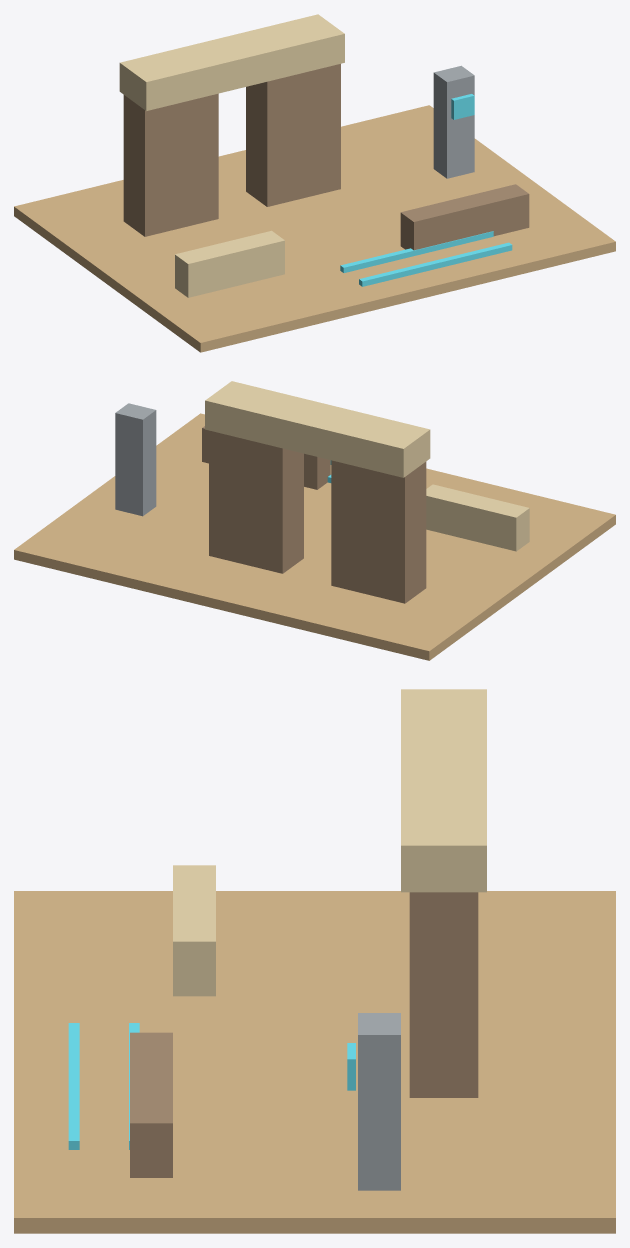
File: cubecraft_outpost_gate_tile_01.glb
3 renders of one model, top to bottom at view 1: azimuth 30°, elevation 25°; view 2: azimuth 150°, elevation 25°; view 3: azimuth 270°, elevation 25°, orthographic. The views are drawn at different scales.
Visible parts, largest first — view 1: base, left_wall, lintel, right_wall, low_cover_a, low_cover_b, terminal, landing_tick_a, landing_tick_b, terminal_screen; view 2: base, left_wall, lintel, right_wall, low_cover_b, terminal, low_cover_a; view 3: base, lintel, right_wall, terminal, low_cover_a, low_cover_b, landing_tick_a.
Part boxes in pixels (<box>): base: <box>14,105,615,352</box>; left_wall: <box>123,93,218,236</box>; lintel: <box>119,14,344,110</box>; right_wall: <box>246,64,340,206</box>; low_cover_a: <box>400,184,529,250</box>; low_cover_b: <box>175,230,284,297</box>; terminal: <box>433,65,474,178</box>; landing_tick_a: <box>359,242,512,286</box>; landing_tick_b: <box>340,231,493,272</box>; terminal_screen: <box>451,94,474,119</box>; base: <box>14,413,615,660</box>; left_wall: <box>331,460,426,603</box>; lintel: <box>205,381,430,477</box>; right_wall: <box>209,430,303,573</box>; low_cover_b: <box>426,484,529,551</box>; terminal: <box>115,403,156,516</box>; low_cover_a: <box>202,426,330,489</box>; base: <box>14,891,615,1233</box>; lintel: <box>401,689,486,892</box>; right_wall: <box>409,892,478,1097</box>; terminal: <box>358,1013,400,1190</box>; low_cover_a: <box>130,1032,172,1177</box>; low_cover_b: <box>173,865,215,996</box>; landing_tick_a: <box>68,1023,79,1149</box>.
Size of the model in its own units: 18 by 6.9 by 14.
